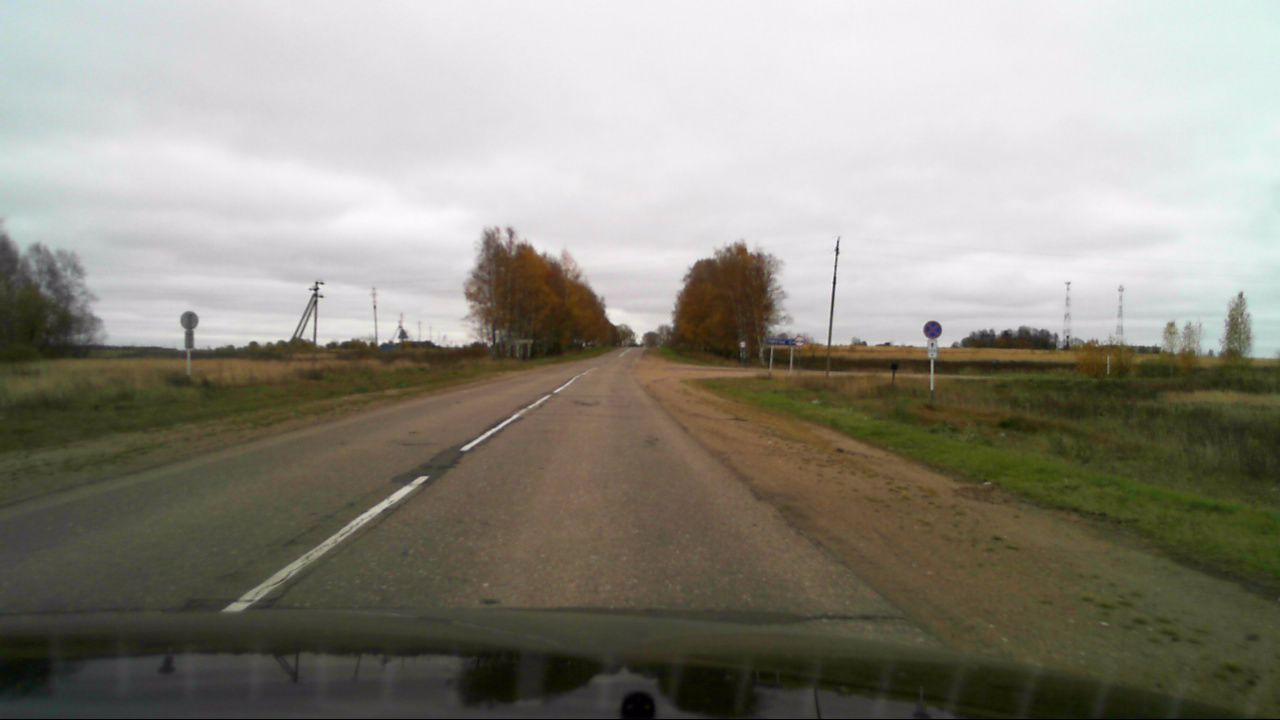No Parking: (922, 320, 942, 339)
